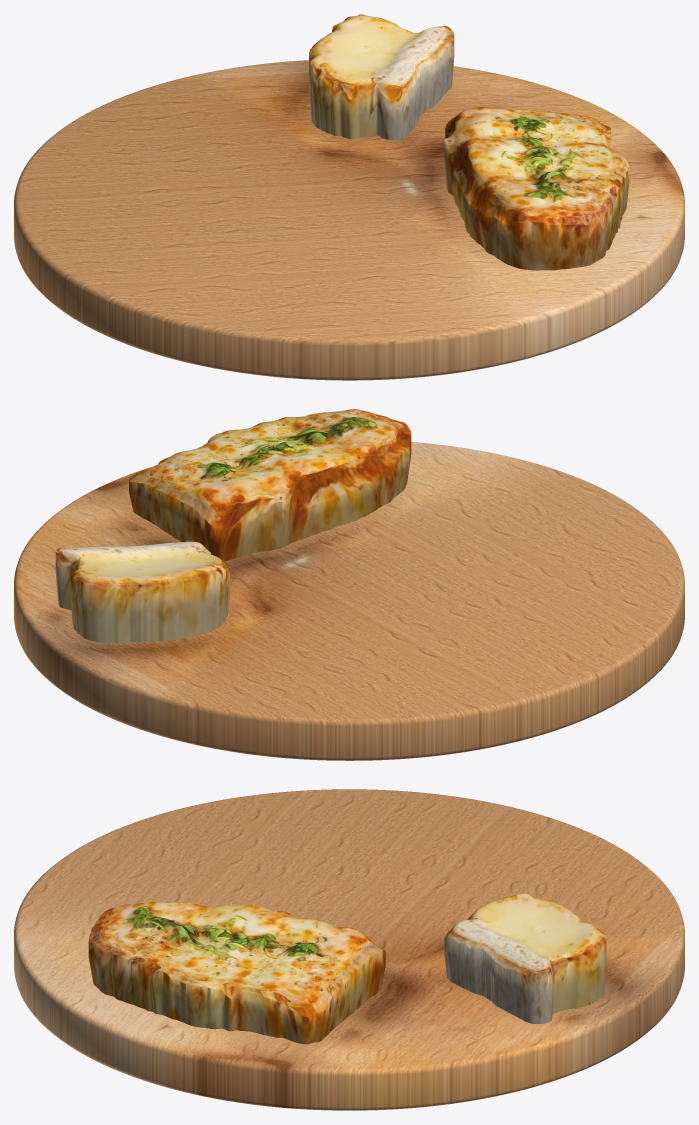
File: garlic-bread.glb
3 renders of one model, top to bottom at view 1: azimuth 30°, elevation 25°; view 2: azimuth 150°, elevation 25°; view 3: azimuth 270°, elevation 25°, orthographic.
Parts seen in each view (by area): view 1: garlic-bread_board, garlic-bread_bread1, garlic-bread_bread2; view 2: garlic-bread_board, garlic-bread_bread1, garlic-bread_bread2; view 3: garlic-bread_board, garlic-bread_bread1, garlic-bread_bread2.
Boxes of the visible parts, x1,y1,x2,y2 form: garlic-bread_board: (14, 60, 684, 380); garlic-bread_bread1: (444, 107, 629, 270); garlic-bread_bread2: (309, 14, 454, 139); garlic-bread_board: (14, 442, 684, 760); garlic-bread_bread1: (129, 409, 411, 561); garlic-bread_bread2: (55, 541, 230, 642); garlic-bread_board: (14, 789, 684, 1110); garlic-bread_bread1: (88, 901, 385, 1044); garlic-bread_bread2: (444, 893, 606, 1023).
Bounding box in the file's own units: 0.2919 × 0.0498 × 0.2919.
3 materials, 3 textured.
